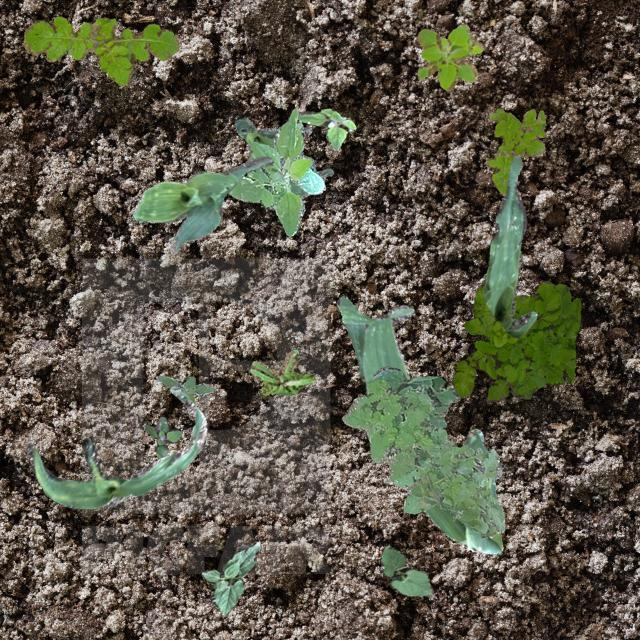crop: (336, 296, 502, 552), (24, 386, 206, 508), (132, 156, 272, 254), (228, 107, 324, 235), (482, 154, 536, 336), (234, 116, 332, 198), (200, 540, 260, 614), (379, 544, 434, 596)
weed: (341, 378, 504, 538), (452, 276, 580, 401), (23, 15, 178, 84), (372, 366, 458, 428), (486, 108, 544, 196), (417, 22, 482, 90), (248, 348, 314, 396), (296, 108, 354, 150), (154, 374, 214, 402), (144, 416, 180, 458)
